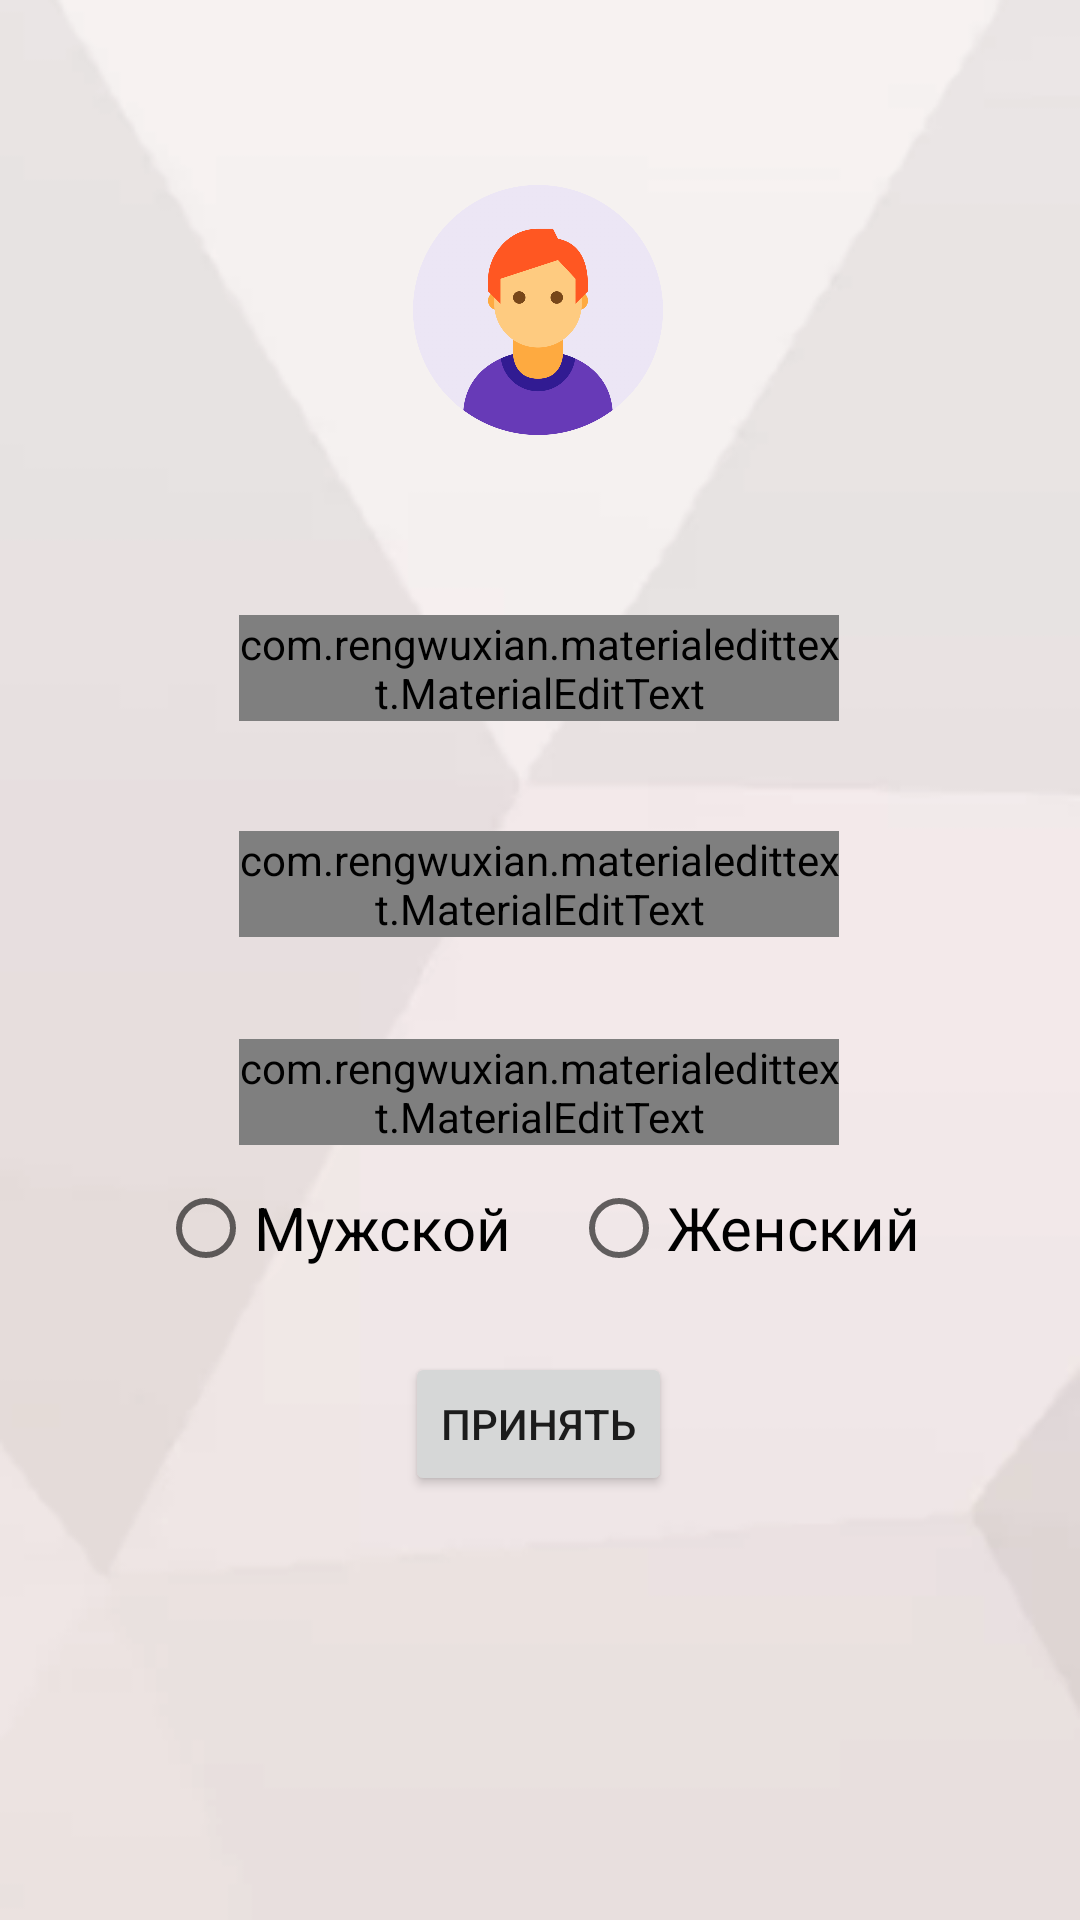

Where to tap for icons on this 1080x1920 app screen, as [x,y]:
user: [538,332]
